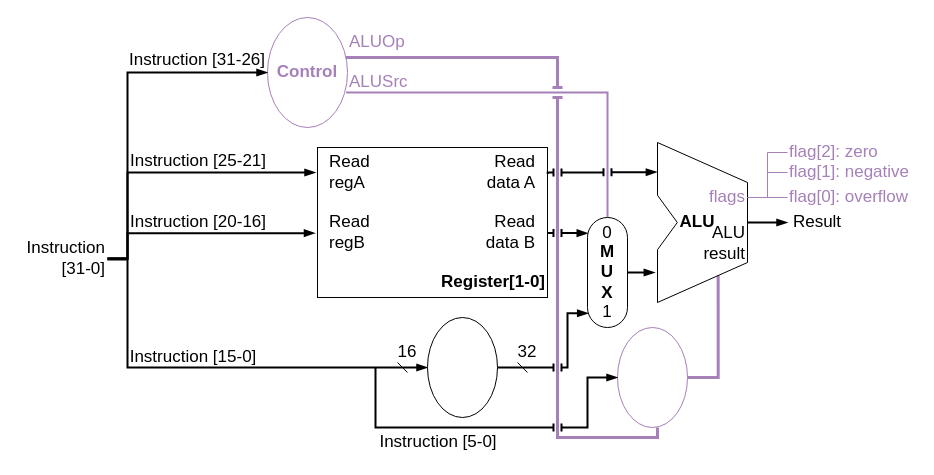
Image size: 934x475. Some labels were removed from this diagram. The box of each missing label's shape, as (x1, y1, x2, y2) in pixels:
ALU control: (616, 326, 688, 428)
Sign- extend: (426, 316, 498, 418)
